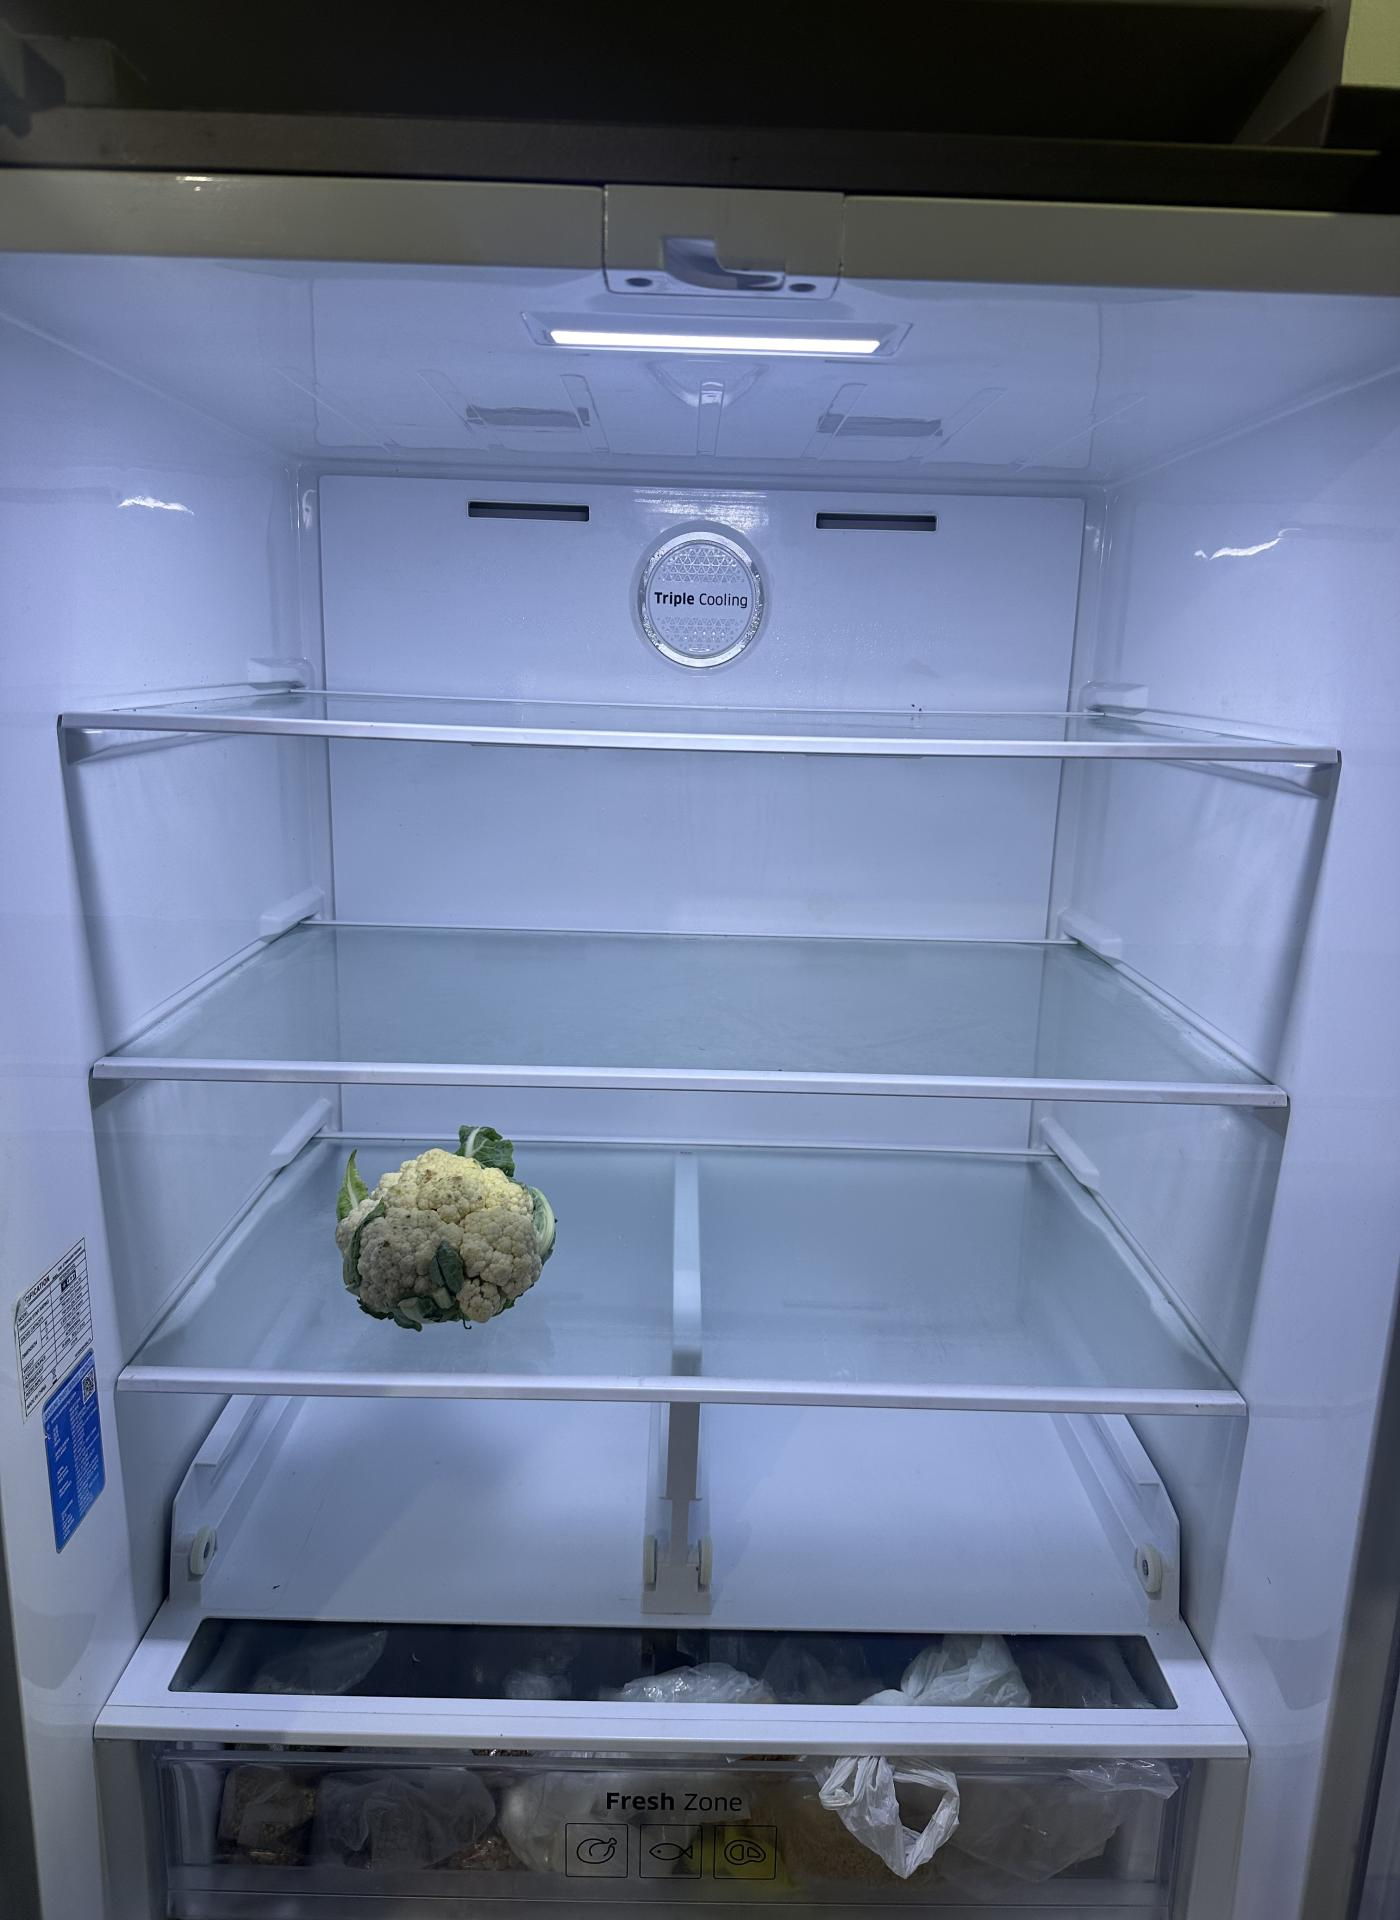cauliflower: (324, 1106, 565, 1333)
